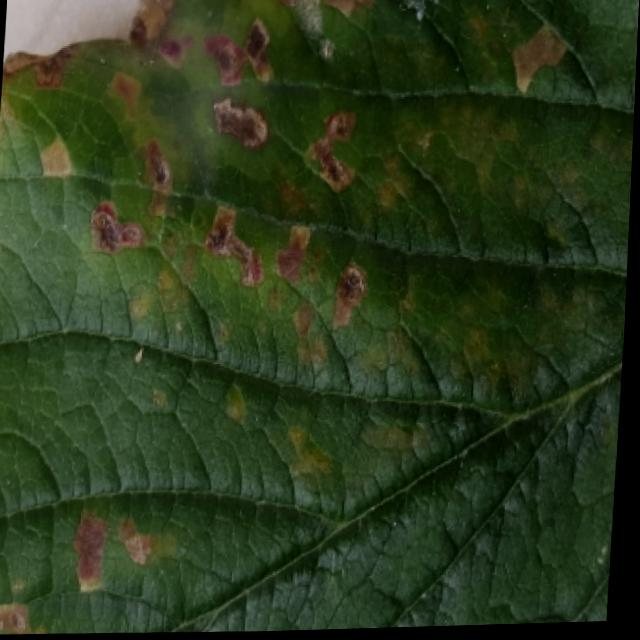Angular Leafspot: (0, 0, 634, 492), (0, 497, 210, 634)
